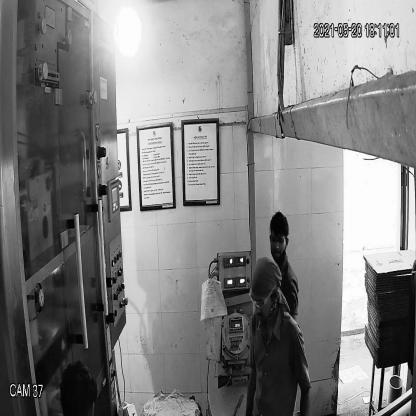goggles: (246, 282, 278, 310)
no_goggles: (268, 230, 288, 248)
